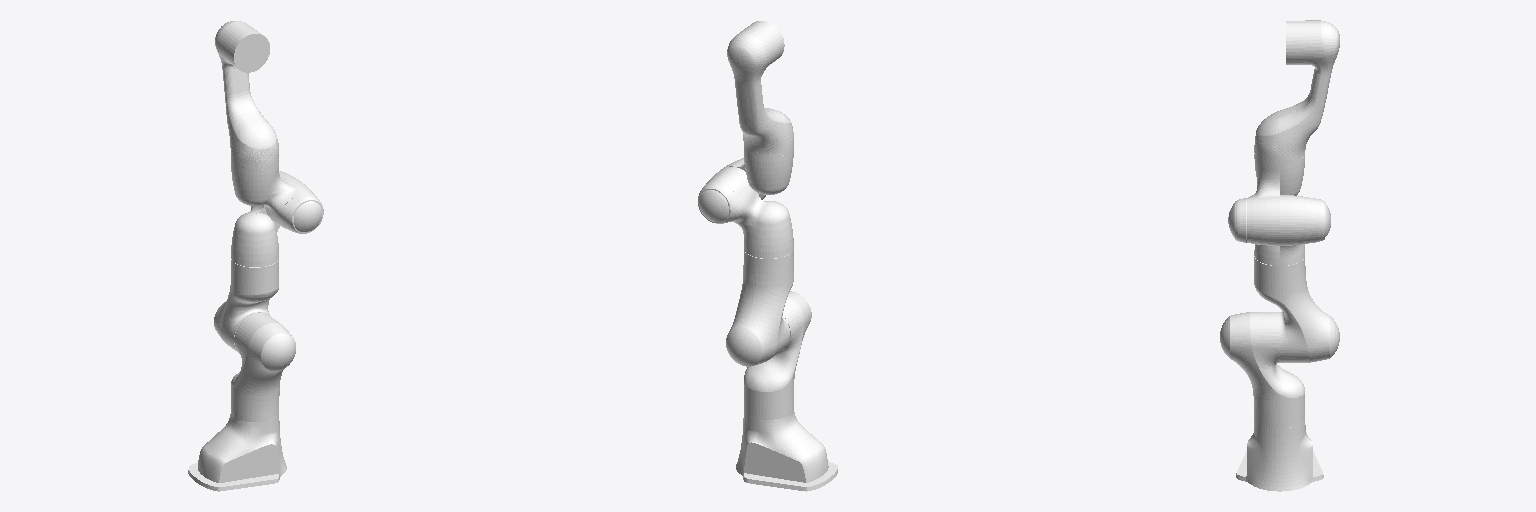
URDF robot description (panda):
<?xml version="1.0" ?>
<!-- =================================================================================== -->
<!-- |    This document was autogenerated by xacro from panda_arm_coloured.urdf.xacro  | -->
<!-- |    EDITING THIS FILE BY HAND IS NOT RECOMMENDED                                 | -->
<!-- =================================================================================== -->
<robot name="panda" xmlns:xacro="http://www.ros.org/wiki/xacro">
  <link name="panda_link0">
    <inertial>
      <mass value="1.2"/>
      <origin rpy="0 0 0" xyz="0 0 0.055"/>
      <inertia ixx="0.00229" ixy="0" ixz="0" iyy="0.00216" iyz="0" izz="0.00229"/>
    </inertial>
    <visual>
      <origin rpy="0 0 0" xyz="0 0 0"/>
      <geometry>
        <mesh filename="package://franka_gazebo/meshes/link0.dae"/>
      </geometry>
      <material name="">
        <color rgba="1 1 1 1"/>
      </material>
    </visual>
    <collision>
      <origin rpy="0 0 0" xyz="0 0 0"/>
      <geometry>
        <mesh filename="package://franka_gazebo/meshes/link0_collision.dae"/>
      </geometry>
    </collision>
  </link>
  <link name="panda_link1">
    <inertial>
      <mass value="2.0"/>
      <origin rpy="0 0 0" xyz="0 0 0.130"/>
      <inertia ixx="0.0136666666667" ixy="0" ixz="0" iyy="0.0118666666667" iyz="0" izz="0.003"/>
    </inertial>
    <visual>
      <origin rpy="0 0 0" xyz="0 0 0"/>
      <geometry>
        <mesh filename="package://franka_gazebo/meshes/link1.dae"/>
      </geometry>
      <material name="">
        <color rgba="1 1 1 1"/>
      </material>
    </visual>
    <collision>
      <origin rpy="0 0 0" xyz="0 0 0"/>
      <geometry>
        <mesh filename="package://franka_gazebo/meshes/link1_collision.dae"/>
      </geometry>
    </collision>
  </link>
  <joint name="panda_joint1" type="revolute">
    <safety_controller k_position="100.0" k_velocity="40.0" soft_lower_limit="-2.818745" soft_upper_limit="2.818745"/>
    <origin rpy="0 0 0" xyz="0 0 0.333"/>
    <parent link="panda_link0"/>
    <child link="panda_link1"/>
    <axis xyz="0 0 1"/>
    <limit effort="87" lower="-2.9671" upper="2.9671" velocity="2.5"/>
  </joint>
  <link name="panda_link2">
    <inertial>
      <mass value="2.0"/>
      <origin rpy="0 0 0" xyz="0 -0.06 0.07"/>
      <inertia ixx="0.0136666666667" ixy="0" ixz="0" iyy="0.0118666666667" iyz="0" izz="0.003"/>
    </inertial>
    <visual>
      <origin rpy="0 0 0" xyz="0 0 0"/>
      <geometry>
        <mesh filename="package://franka_gazebo/meshes/link2.dae"/>
      </geometry>
      <material name="">
        <color rgba="1 1 1 1"/>
      </material>
    </visual>
    <collision>
      <origin rpy="0 0 0" xyz="0 0 0"/>
      <geometry>
        <mesh filename="package://franka_gazebo/meshes/link2_collision.dae"/>
      </geometry>
    </collision>
  </link>
  <joint name="panda_joint2" type="revolute">
    <safety_controller k_position="100.0" k_velocity="40.0" soft_lower_limit="-1.74097" soft_upper_limit="1.74097"/>
    <origin rpy="-1.570796326794897 0 0" xyz="0 0 0"/>
    <parent link="panda_link1"/>
    <child link="panda_link2"/>
    <axis xyz="0 0 1"/>
    <limit effort="87" lower="-1.8326" upper="1.8326" velocity="2.5"/>
  </joint>
  <link name="panda_link3">
    <inertial>
      <mass value="2.0"/>
      <origin rpy="0 0 0" xyz="0 -0.06 0.130"/>
      <inertia ixx="0.0136666666667" ixy="0" ixz="0" iyy="0.0118666666667" iyz="0" izz="0.003"/>
    </inertial>
    <visual>
      <origin rpy="0 0 0" xyz="0 0 0"/>
      <geometry>
        <mesh filename="package://franka_gazebo/meshes/link3.dae"/>
      </geometry>
      <material name="">
        <color rgba="1 1 1 1"/>
      </material>
    </visual>
    <collision>
      <origin rpy="0 0 0" xyz="0 0 0"/>
      <geometry>
        <mesh filename="package://franka_gazebo/meshes/link3_collision.dae"/>
      </geometry>
    </collision>
  </link>
  <joint name="panda_joint3" type="revolute">
    <safety_controller k_position="100.0" k_velocity="40.0" soft_lower_limit="-2.818745" soft_upper_limit="2.818745"/>
    <origin rpy="1.570796326794897 0 0" xyz="0 -0.316 0"/>
    <parent link="panda_link2"/>
    <child link="panda_link3"/>
    <axis xyz="0 0 1"/>
    <limit effort="87" lower="-2.9671" upper="2.9671" velocity="2.5"/>
  </joint>
  <link name="panda_link4">
    <inertial>
      <mass value="2.0"/>
      <origin rpy="0 0 0" xyz="0 0.06 0.07"/>
      <inertia ixx="0.0136666666667" ixy="0" ixz="0" iyy="0.0118666666667" iyz="0" izz="0.003"/>
    </inertial>
    <visual>
      <origin rpy="0 0 0" xyz="0 0 0"/>
      <geometry>
        <mesh filename="package://franka_gazebo/meshes/link4.dae"/>
      </geometry>
      <material name="">
        <color rgba="1 1 1 1"/>
      </material>
    </visual>
    <collision>
      <origin rpy="0 0 0" xyz="0 0 0"/>
      <geometry>
        <mesh filename="package://franka_gazebo/meshes/link4_collision.dae"/>
      </geometry>
    </collision>
  </link>
  <joint name="panda_joint4" type="revolute">
    <safety_controller k_position="100.0" k_velocity="40.0" soft_lower_limit="-2.98452" soft_upper_limit="0.082935"/>
    <origin rpy="1.570796326794897 0 0" xyz="0.0825 0 0"/>
    <parent link="panda_link3"/>
    <child link="panda_link4"/>
    <axis xyz="0 0 1"/>
    <limit effort="87" lower="-3.1416" upper="0.0873" velocity="2.5"/>
  </joint>
  <link name="panda_link5">
    <inertial>
      <mass value="2.0"/>
      <origin rpy="0 0 0" xyz="0 0 0.124"/>
      <inertia ixx="0.0126506666667" ixy="0" ixz="0" iyy="0.0108506666667" iyz="0" izz="0.003"/>
    </inertial>
    <visual>
      <origin rpy="0 0 0" xyz="0 0 0"/>
      <geometry>
        <mesh filename="package://franka_gazebo/meshes/link5.dae"/>
      </geometry>
      <material name="">
        <color rgba="1 1 1 1"/>
      </material>
    </visual>
    <collision>
      <origin rpy="0 0 0" xyz="0 0 0"/>
      <geometry>
        <mesh filename="package://franka_gazebo/meshes/link5_collision.dae"/>
      </geometry>
    </collision>
  </link>
  <joint name="panda_joint5" type="revolute">
    <safety_controller k_position="100.0" k_velocity="40.0" soft_lower_limit="-2.818745" soft_upper_limit="2.818745"/>
    <origin rpy="-1.570796326794897 0 0" xyz="-0.0825 0.384 0"/>
    <parent link="panda_link4"/>
    <child link="panda_link5"/>
    <axis xyz="0 0 1"/>
    <limit effort="12" lower="-2.9671" upper="2.9671" velocity="3"/>
  </joint>
  <link name="panda_link6">
    <inertial>
      <mass value="1.0"/>
      <origin rpy="0 0 0" xyz="0 0 0.0"/>
      <inertia ixx="0.00260416666667" ixy="0" ixz="0" iyy="0.00260416666667" iyz="0" izz="0.00260416666667"/>
    </inertial>
    <visual>
      <origin rpy="0 0 0" xyz="0 0 0"/>
      <geometry>
        <mesh filename="package://franka_gazebo/meshes/link6.dae"/>
      </geometry>
      <material name="">
        <color rgba="1 1 1 1"/>
      </material>
    </visual>
    <collision>
      <origin rpy="0 0 0" xyz="0 0 0"/>
      <geometry>
        <mesh filename="package://franka_gazebo/meshes/link6_collision.dae"/>
      </geometry>
    </collision>
  </link>
  <joint name="panda_joint6" type="revolute">
    <safety_controller k_position="100.0" k_velocity="40.0" soft_lower_limit="-0.082935" soft_upper_limit="3.631185"/>
    <origin rpy="1.570796326794897 0 0" xyz="0 0 0"/>
    <parent link="panda_link5"/>
    <child link="panda_link6"/>
    <axis xyz="0 0 1"/>
    <limit effort="12" lower="-0.0873" upper="3.8223" velocity="3"/>
  </joint>
  <link name="panda_link7">
    <inertial>
      <mass value="0.2"/>
      <origin xyz="0 0 0"/>
      <inertia ixx="6.66666666667e-05" ixy="0" ixz="0" iyy="6.66666666667e-05" iyz="0" izz="0.00012"/>
    </inertial>
    <visual>
      <origin rpy="0 0 0" xyz="0 0 0"/>
      <geometry>
        <mesh filename="package://franka_gazebo/meshes/link7.dae"/>
      </geometry>
      <material name="">
        <color rgba="1 1 1 1"/>
      </material>
    </visual>
    <collision>
      <origin rpy="0 0 0" xyz="0 0 0"/>
      <geometry>
        <mesh filename="package://franka_gazebo/meshes/link7_collision.dae"/>
      </geometry>
    </collision>
  </link>
  <joint name="panda_joint7" type="revolute">
    <safety_controller k_position="100.0" k_velocity="40.0" soft_lower_limit="-2.818745" soft_upper_limit="2.818745"/>
    <origin rpy="1.570796326794897 0 0" xyz="0.088 0 0"/>
    <parent link="panda_link6"/>
    <child link="panda_link7"/>
    <axis xyz="0 0 1"/>
    <limit effort="12" lower="-2.9671" upper="2.9671" velocity="3"/>
  </joint>
  <link name="panda_link8"/>
  <joint name="panda_joint8" type="fixed">
    <origin rpy="0 0 0" xyz="0 0 0.107"/>
    <parent link="panda_link7"/>
    <child link="panda_link8"/>
    <axis xyz="0 0 0"/>
  </joint>
  <gazebo reference="panda_link0"/>
  <gazebo reference="panda_link1"/>
  <gazebo reference="panda_link2"/>
  <gazebo reference="panda_link3"/>
  <gazebo reference="panda_link4"/>
  <gazebo reference="panda_link5"/>
  <gazebo reference="panda_link6"/>
  <gazebo reference="panda_link7"/>
  <gazebo reference="panda_link8"/>
</robot>

--- Facts derived from the render (not from the file) ---
The picture shows the robot from 3 angles, left to right: view 1: azimuth 30°, elevation 25°; view 2: azimuth 150°, elevation 25°; view 3: azimuth 270°, elevation 25°; orthographic projection.
Robot: panda — 9 links, 8 joints (7 revolute, 1 fixed); root link panda_link0; default pose: all joints at 0.
Links seen in each view (by area): view 1: panda_link5, panda_link0, panda_link1, panda_link4, panda_link2, panda_link3; view 2: panda_link0, panda_link2, panda_link5, panda_link3, panda_link1, panda_link4; view 3: panda_link5, panda_link1, panda_link2, panda_link0, panda_link4, panda_link3.
Boxes of the visible links, x1=… form: panda_link5: x1=215, y1=21, x2=278, y2=169; panda_link0: x1=188, y1=414, x2=286, y2=491; panda_link1: x1=231, y1=313, x2=295, y2=421; panda_link4: x1=231, y1=162, x2=323, y2=233; panda_link2: x1=214, y1=259, x2=278, y2=351; panda_link3: x1=231, y1=170, x2=297, y2=266; panda_link0: x1=736, y1=411, x2=837, y2=491; panda_link2: x1=726, y1=250, x2=793, y2=366; panda_link5: x1=727, y1=21, x2=793, y2=157; panda_link3: x1=698, y1=167, x2=793, y2=258; panda_link1: x1=744, y1=291, x2=811, y2=418; panda_link4: x1=724, y1=149, x2=793, y2=199; panda_link5: x1=1254, y1=20, x2=1339, y2=163; panda_link1: x1=1220, y1=312, x2=1304, y2=428; panda_link2: x1=1254, y1=256, x2=1339, y2=362; panda_link0: x1=1236, y1=419, x2=1323, y2=491; panda_link4: x1=1228, y1=153, x2=1304, y2=245; panda_link3: x1=1254, y1=195, x2=1330, y2=265.
Bounding box of the posed robot: 0.2915 × 0.2593 × 1.08 m (x, y, z).
6 mesh visuals loaded from 8 distinct referenced files (6 Collada DAE); not drawn: 2 (reference not matched to a file when rendering).